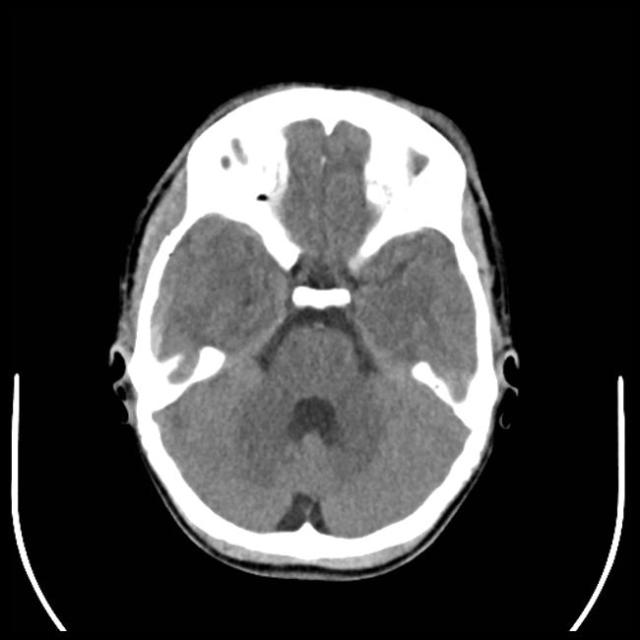lesion: (105, 80, 521, 579)
